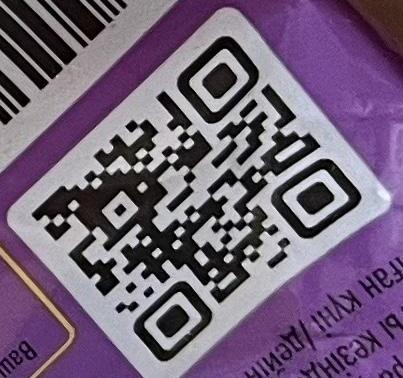qrcode: (33, 36, 363, 363)
